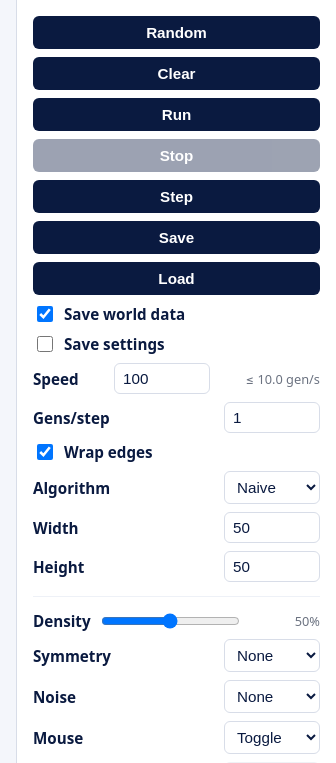
Scenario: Game page buttons › clicking Run disables Run and enables Stop
The image size is (336, 763).
Click the button "Run". click: [176, 114]
box: [33, 98, 320, 131]
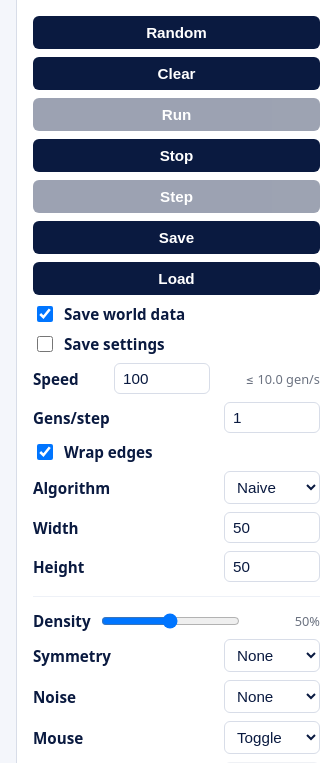
Check: the button "Run" is disabled, box [33, 98, 320, 131]
Check: the button "Stop" is enabled, box [33, 139, 320, 172]
Check: the button "Step" is disabled, box [33, 180, 320, 213]
